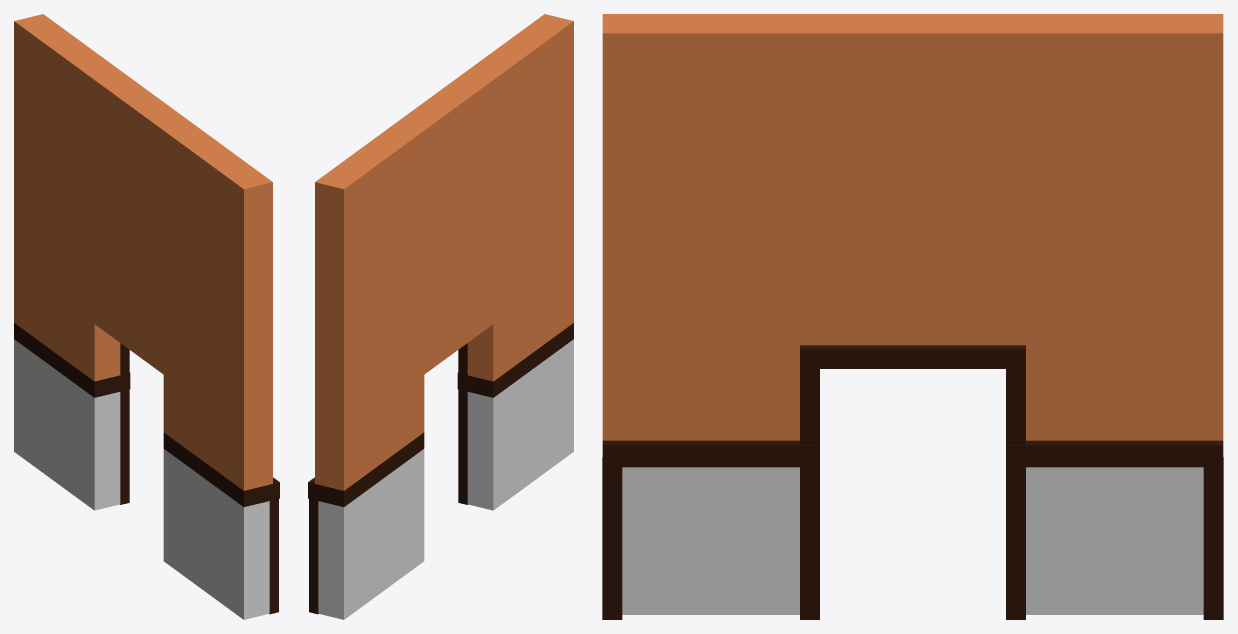
The model's file is wallHole.fbx.
3 renders of one model, left to right at view 1: azimuth 30°, elevation 25°; view 2: azimuth 150°, elevation 25°; view 3: azimuth 270°, elevation 25°, orthographic. The views are drawn at different scales.
Parts seen in each view (by area): view 1: Wall; view 2: Wall; view 3: Wall.
Part boxes in pixels (<box>): Wall: <box>14,14,279,619</box>; Wall: <box>308,14,573,619</box>; Wall: <box>602,14,1223,619</box>.
Size of the model in its own units: 142 by 1625 by 1570.
